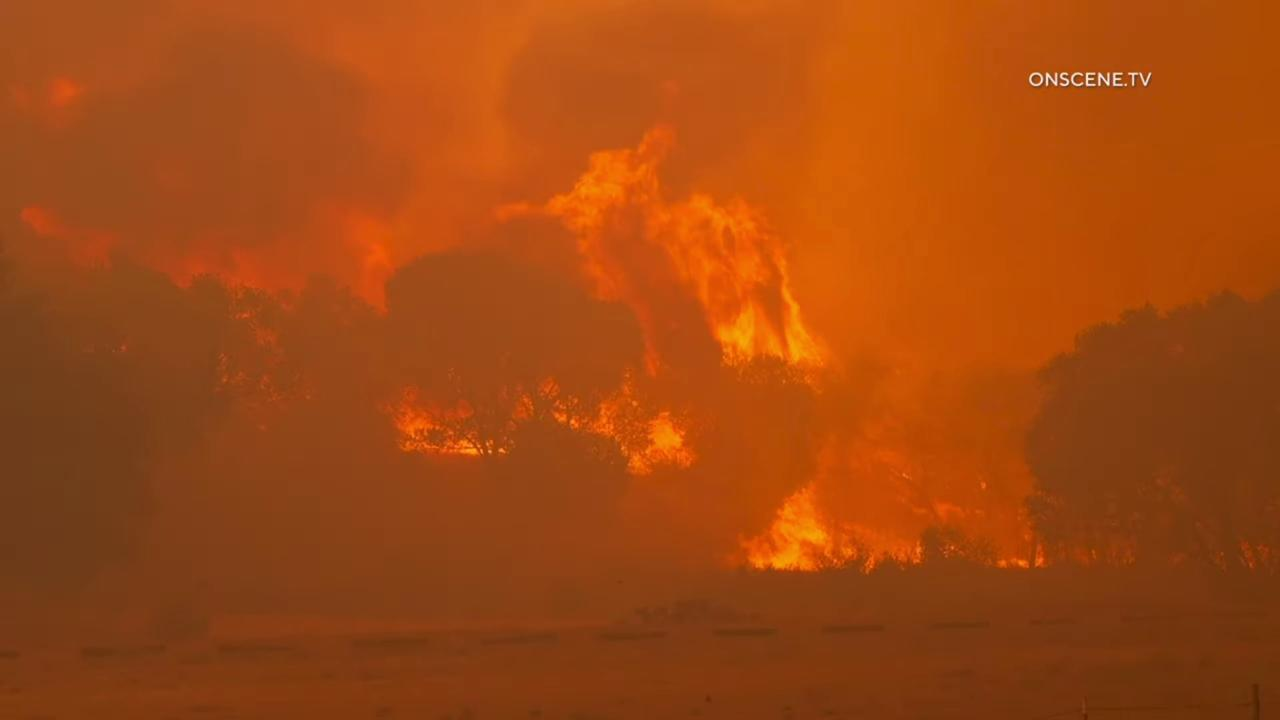fire: (493, 116, 839, 400), (18, 186, 466, 324), (533, 366, 701, 484), (721, 477, 933, 569), (379, 375, 535, 467), (988, 553, 1048, 573)
smoke: (0, 0, 1280, 604)
